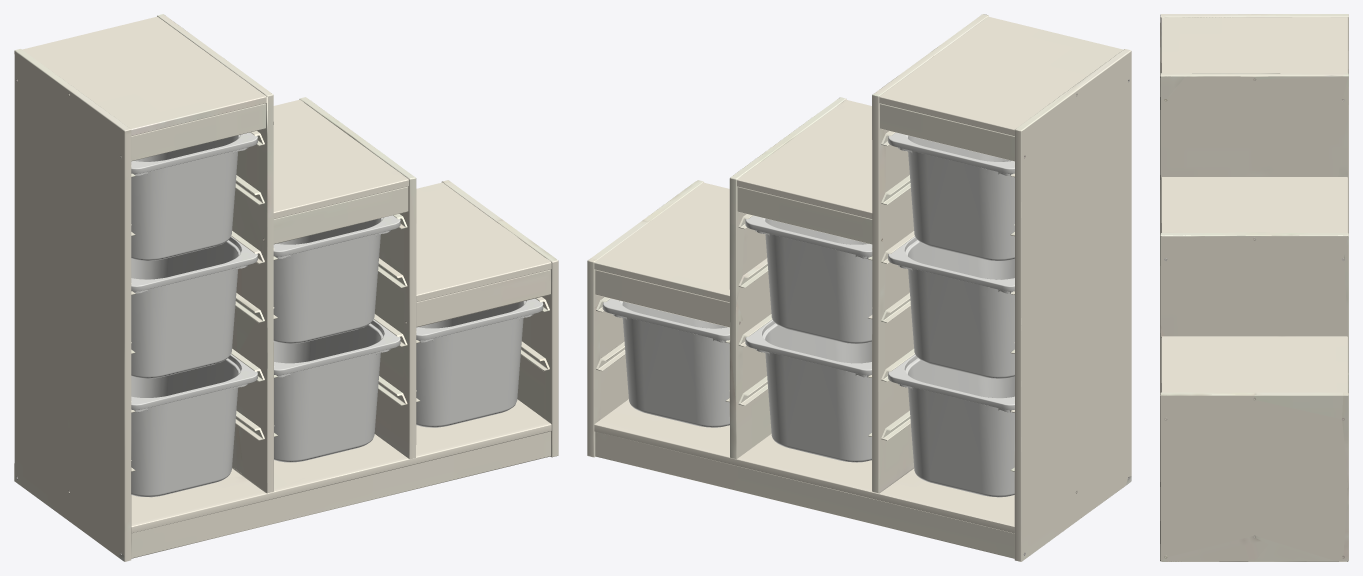
3 renders of one model, left to right at view 1: azimuth 30°, elevation 25°; view 2: azimuth 150°, elevation 25°; view 3: azimuth 270°, elevation 25°, orthographic. The views are drawn at different scales.
Visible parts, largest first — view 1: model, ASY_ART_40582100_S01_NV01; view 2: model, ASY_ART_40582100_S01_NV01; view 3: model.
Part boxes in pixels (x1,y1,x2,y2): model: (14, 14, 558, 561); ASY_ART_40582100_S01_NV01: (131, 132, 543, 497); model: (587, 14, 1131, 561); ASY_ART_40582100_S01_NV01: (602, 132, 1014, 497); model: (1160, 14, 1348, 561).
Size of the model in its own units: 0.989 by 0.9374 by 0.4363.
2 materials, 2 textured.
